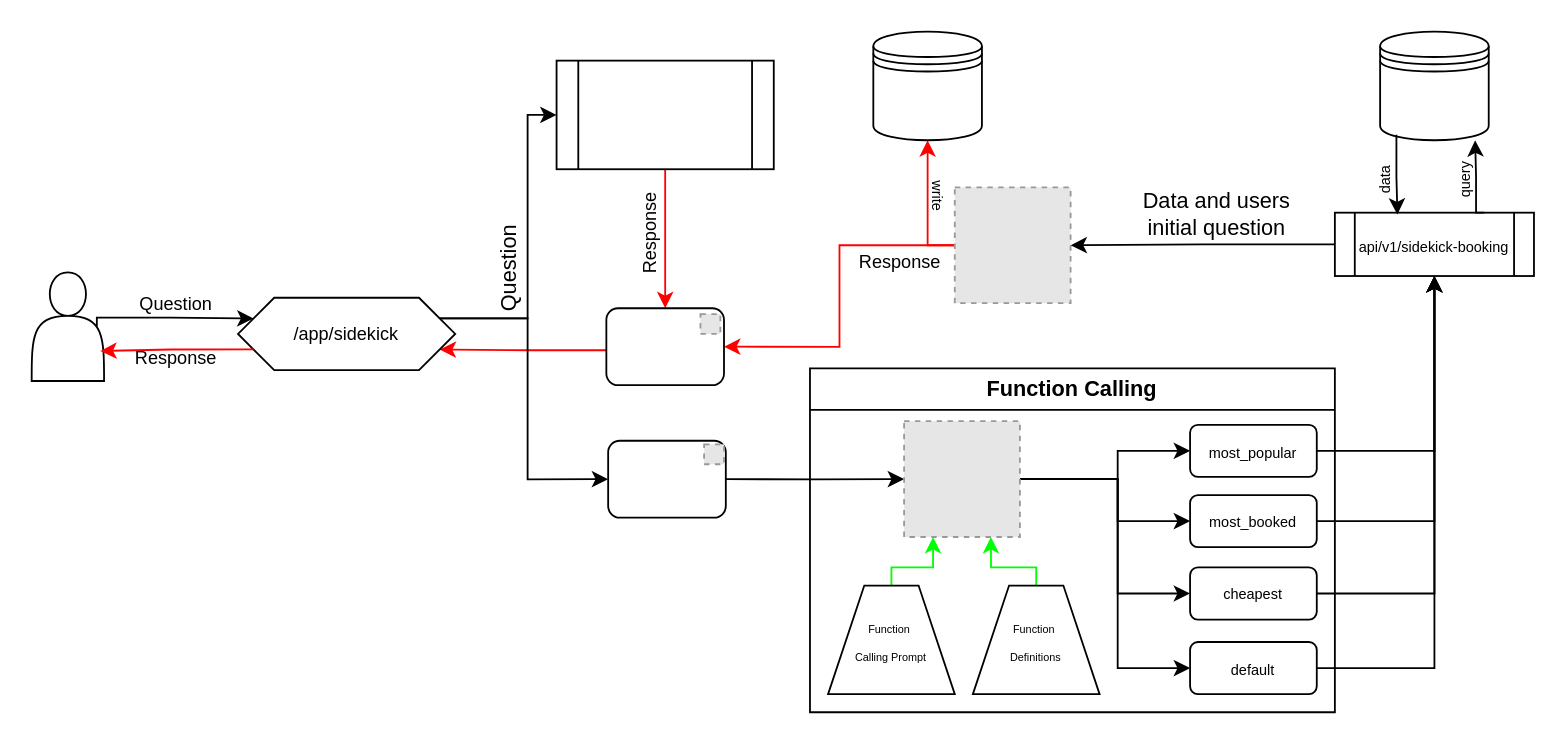
This 1566x744 diagram has some shape labels left out. Grey dashed boxes stand in for pictures. The shapes that lost their labels are listed below. From the top down, each one's centre as x and y in pixels, then its label:
point (927, 85): response table
point (1433, 85): bookings table
point (664, 114): Sidekick
point (664, 345): Answer Condenser
point (666, 478): Question Condenser
